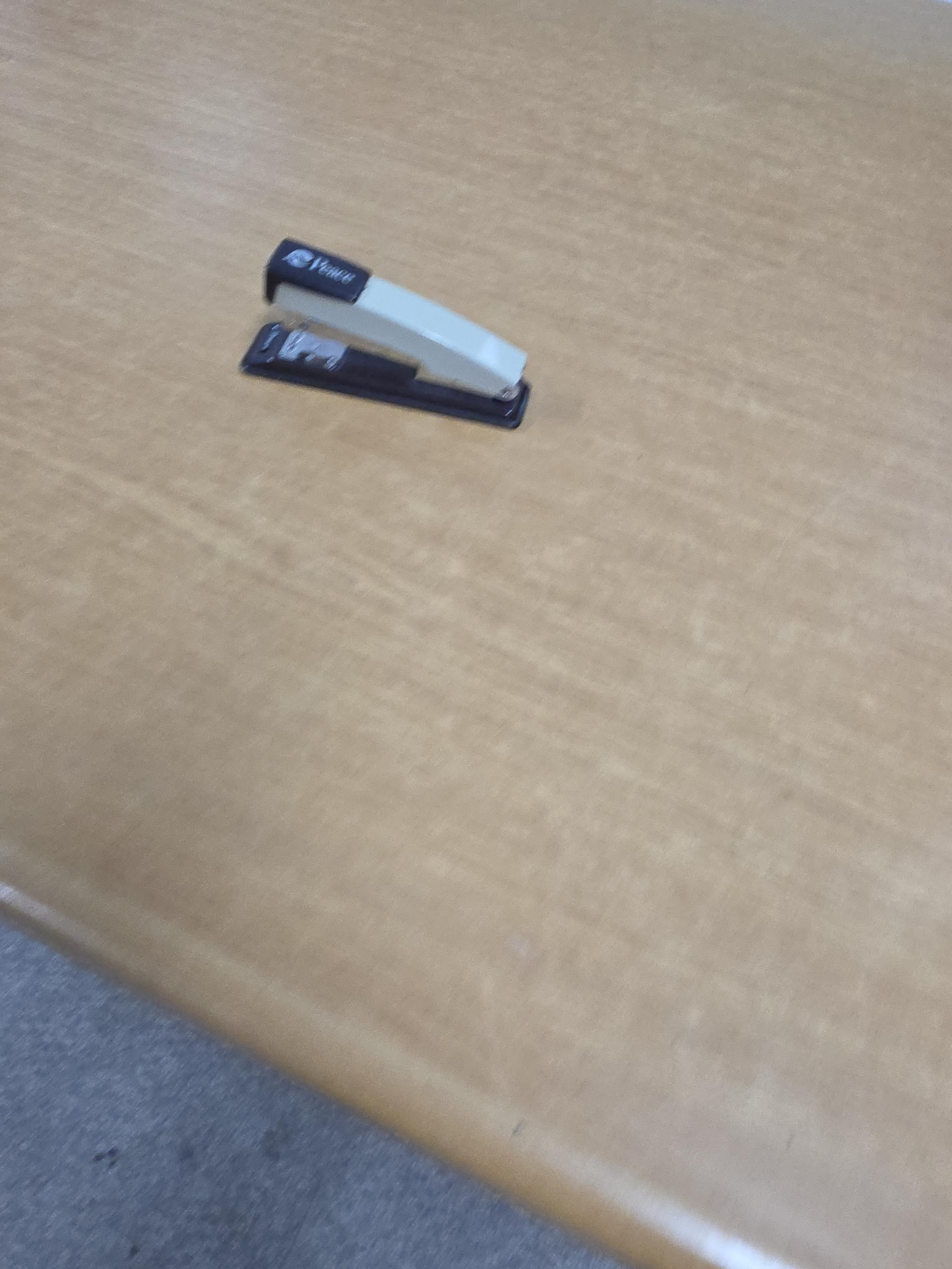stapler: (237, 237, 535, 431)
